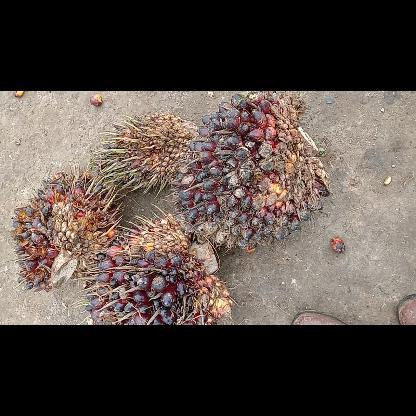Kurang masak: (174, 91, 322, 255), (83, 218, 233, 324)
TBS abnormal: (90, 114, 198, 192)
TBS masak: (10, 170, 122, 290)
